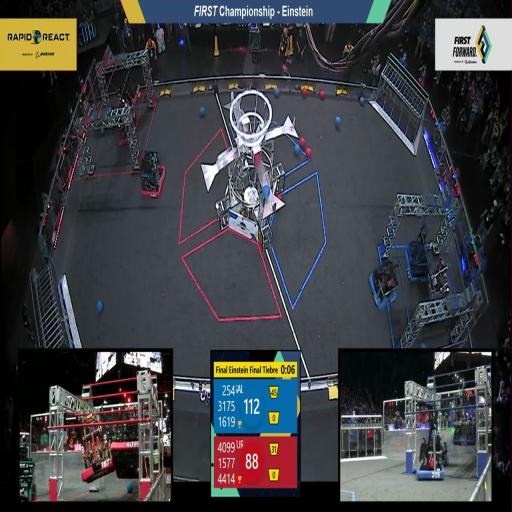robot: (110, 410, 154, 482), (80, 420, 116, 484), (416, 414, 447, 482), (406, 220, 436, 288), (367, 260, 400, 311), (450, 393, 478, 450), (138, 152, 170, 200), (427, 257, 453, 306), (114, 111, 140, 149), (116, 69, 143, 104)
